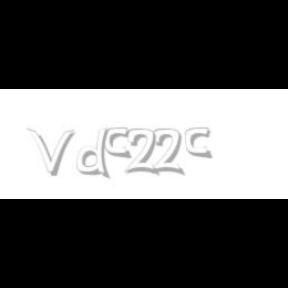2: (124, 128, 158, 176), (149, 128, 183, 176)
V: (27, 128, 75, 176)
c: (104, 128, 134, 160), (184, 128, 214, 160)
d: (76, 128, 114, 180)
